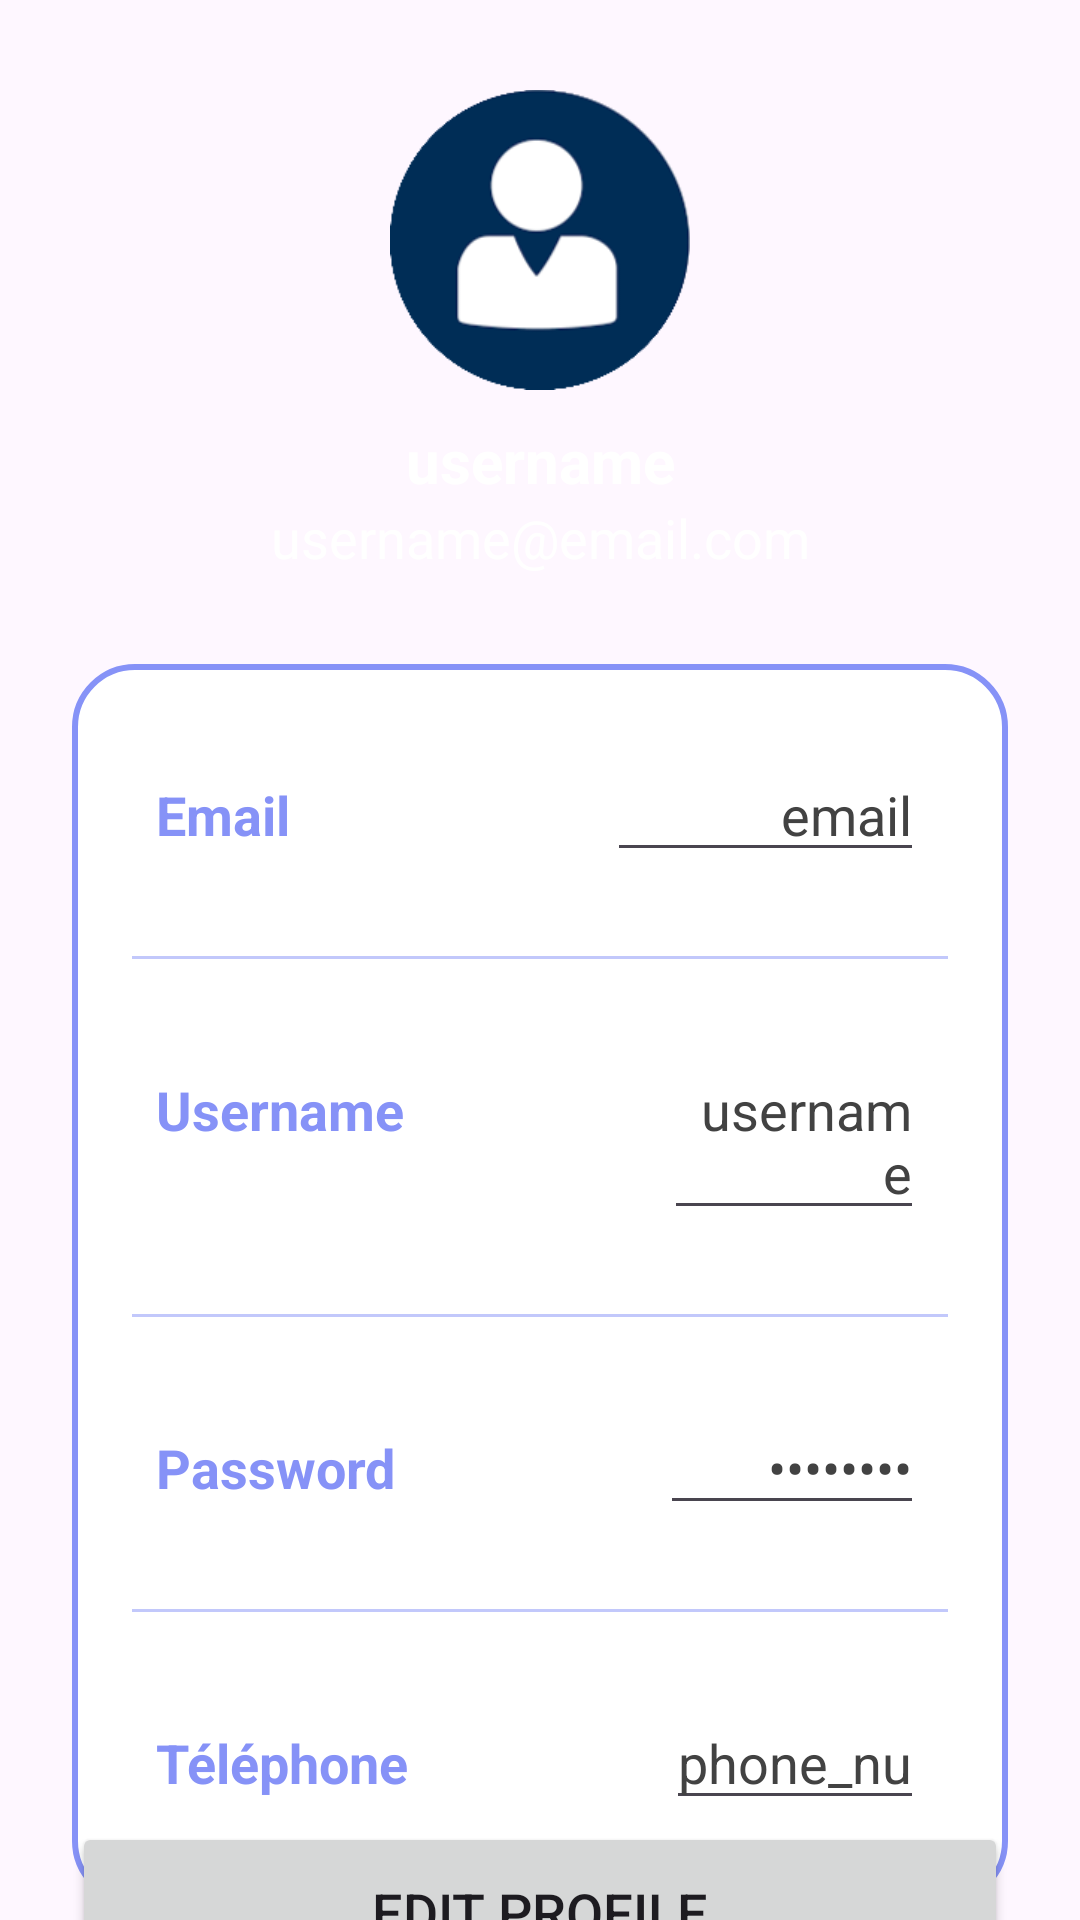

Named icons in this screenshot (1080px×1920px) and their centers, (x,y):
customerfotor: (540,240)
